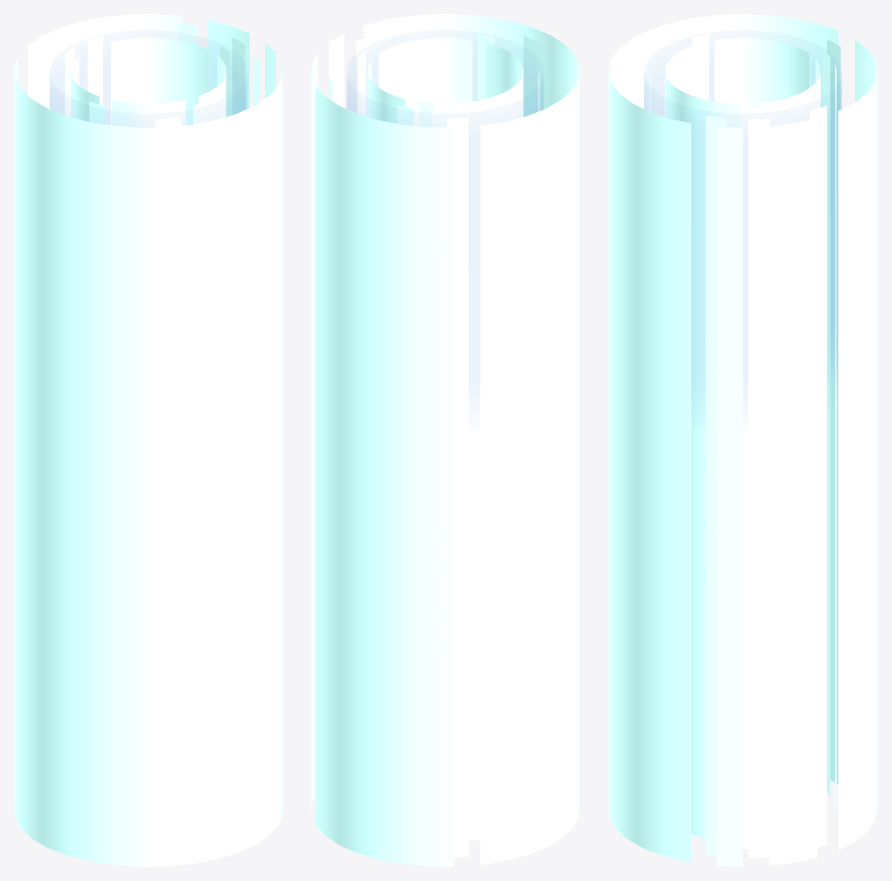
Rendered from beam.gltf.
3 views of the same model, side by side, from view 1: azimuth 30°, elevation 25°; view 2: azimuth 150°, elevation 25°; view 3: azimuth 270°, elevation 25° (orthographic).
Parts seen in each view (by area): view 1: beam, beam_static; view 2: beam, beam_static; view 3: beam, beam_static.
Boxes of the visible parts, left/top/right/bottom form: beam: left=14, top=14, right=282, bottom=866; beam_static: left=50, top=77, right=246, bottom=124; beam: left=311, top=14, right=579, bottom=866; beam_static: left=347, top=77, right=543, bottom=116; beam: left=608, top=14, right=877, bottom=866; beam_static: left=644, top=76, right=841, bottom=366.
Bounding box in the file's own units: 5.92 × 17.92 × 5.92.
Materials: 2 (2 with a texture image).
